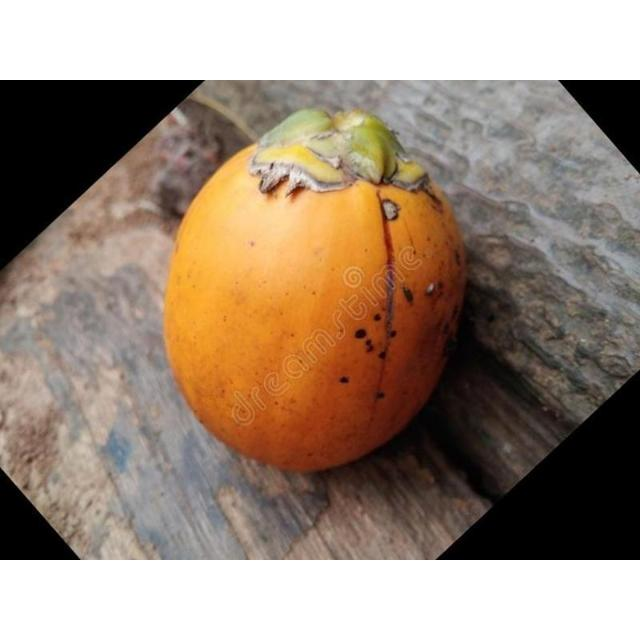good: (162, 108, 471, 474)
